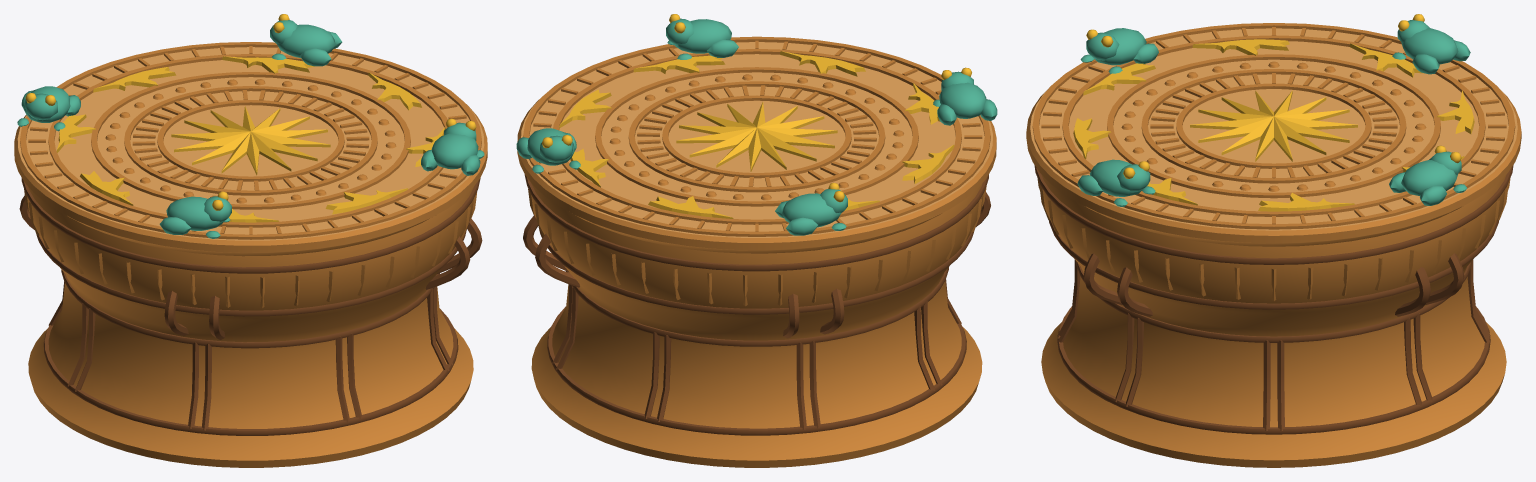
File: drum_big.glb
3 views of the same model, side by side, from view 1: azimuth 30°, elevation 25°; view 2: azimuth 150°, elevation 25°; view 3: azimuth 270°, elevation 25° (orthographic). The views are drawn at different scales.
Visible parts, largest first — view 1: drum_big; view 2: drum_big; view 3: drum_big.
Part boxes in pixels (x1,y1,x2,y2): drum_big: [14, 14, 487, 467]; drum_big: [516, 14, 997, 467]; drum_big: [1026, 14, 1521, 467].
Bounding box in the file's own units: 4 × 2.53 × 4.
